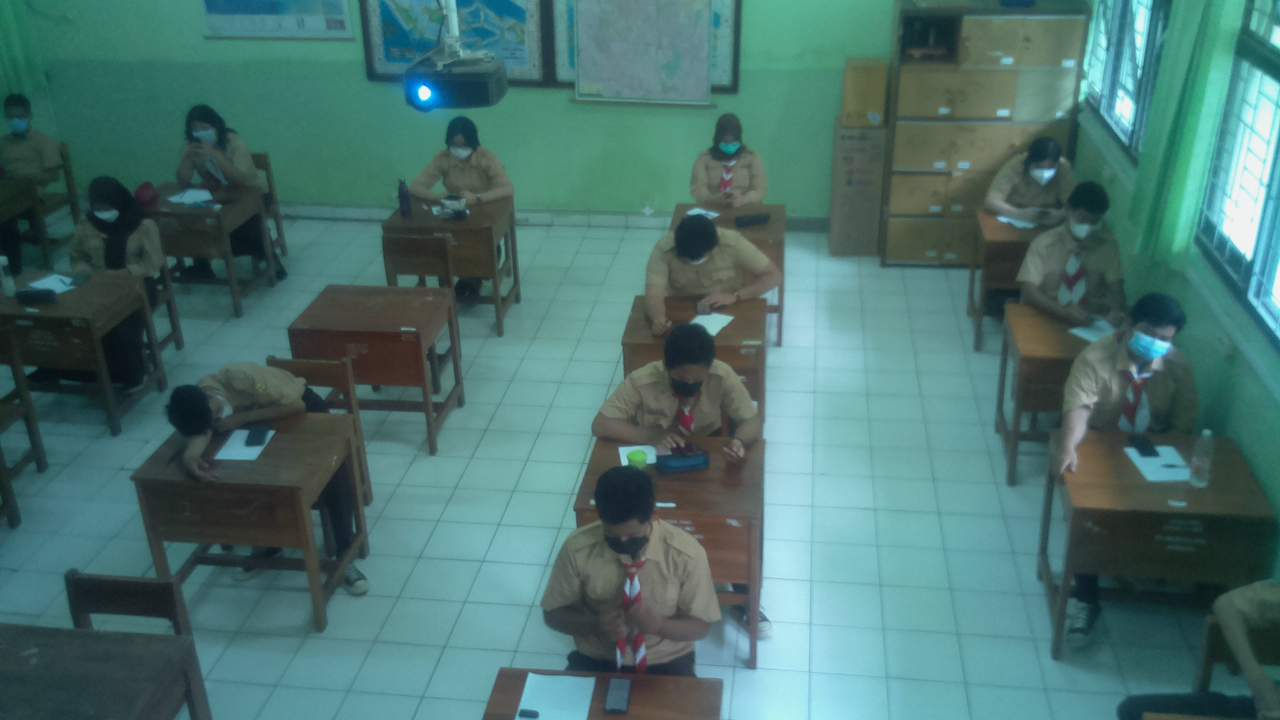Student: (555, 467, 705, 661), (1089, 293, 1200, 433), (615, 323, 746, 434), (1035, 181, 1127, 308), (167, 363, 323, 431), (647, 216, 756, 298), (75, 179, 155, 272), (175, 99, 256, 188), (421, 117, 506, 201), (689, 111, 762, 204), (0, 90, 69, 187), (995, 137, 1071, 210)
